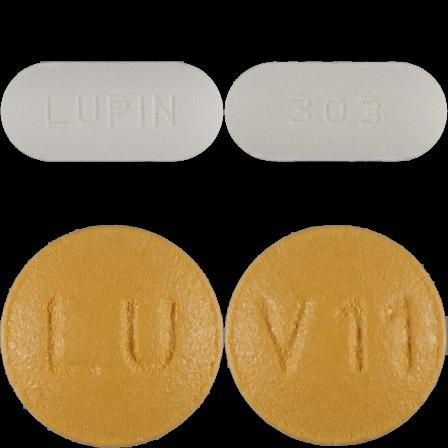68180-303: (0, 0, 224, 224)
